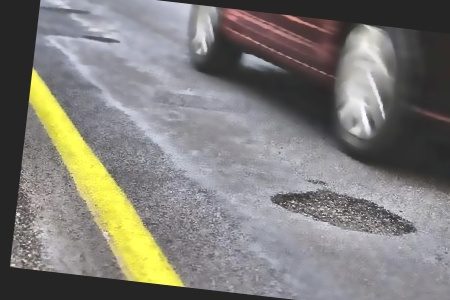pothole: (266, 182, 420, 238), (80, 31, 120, 44), (304, 176, 326, 186)
